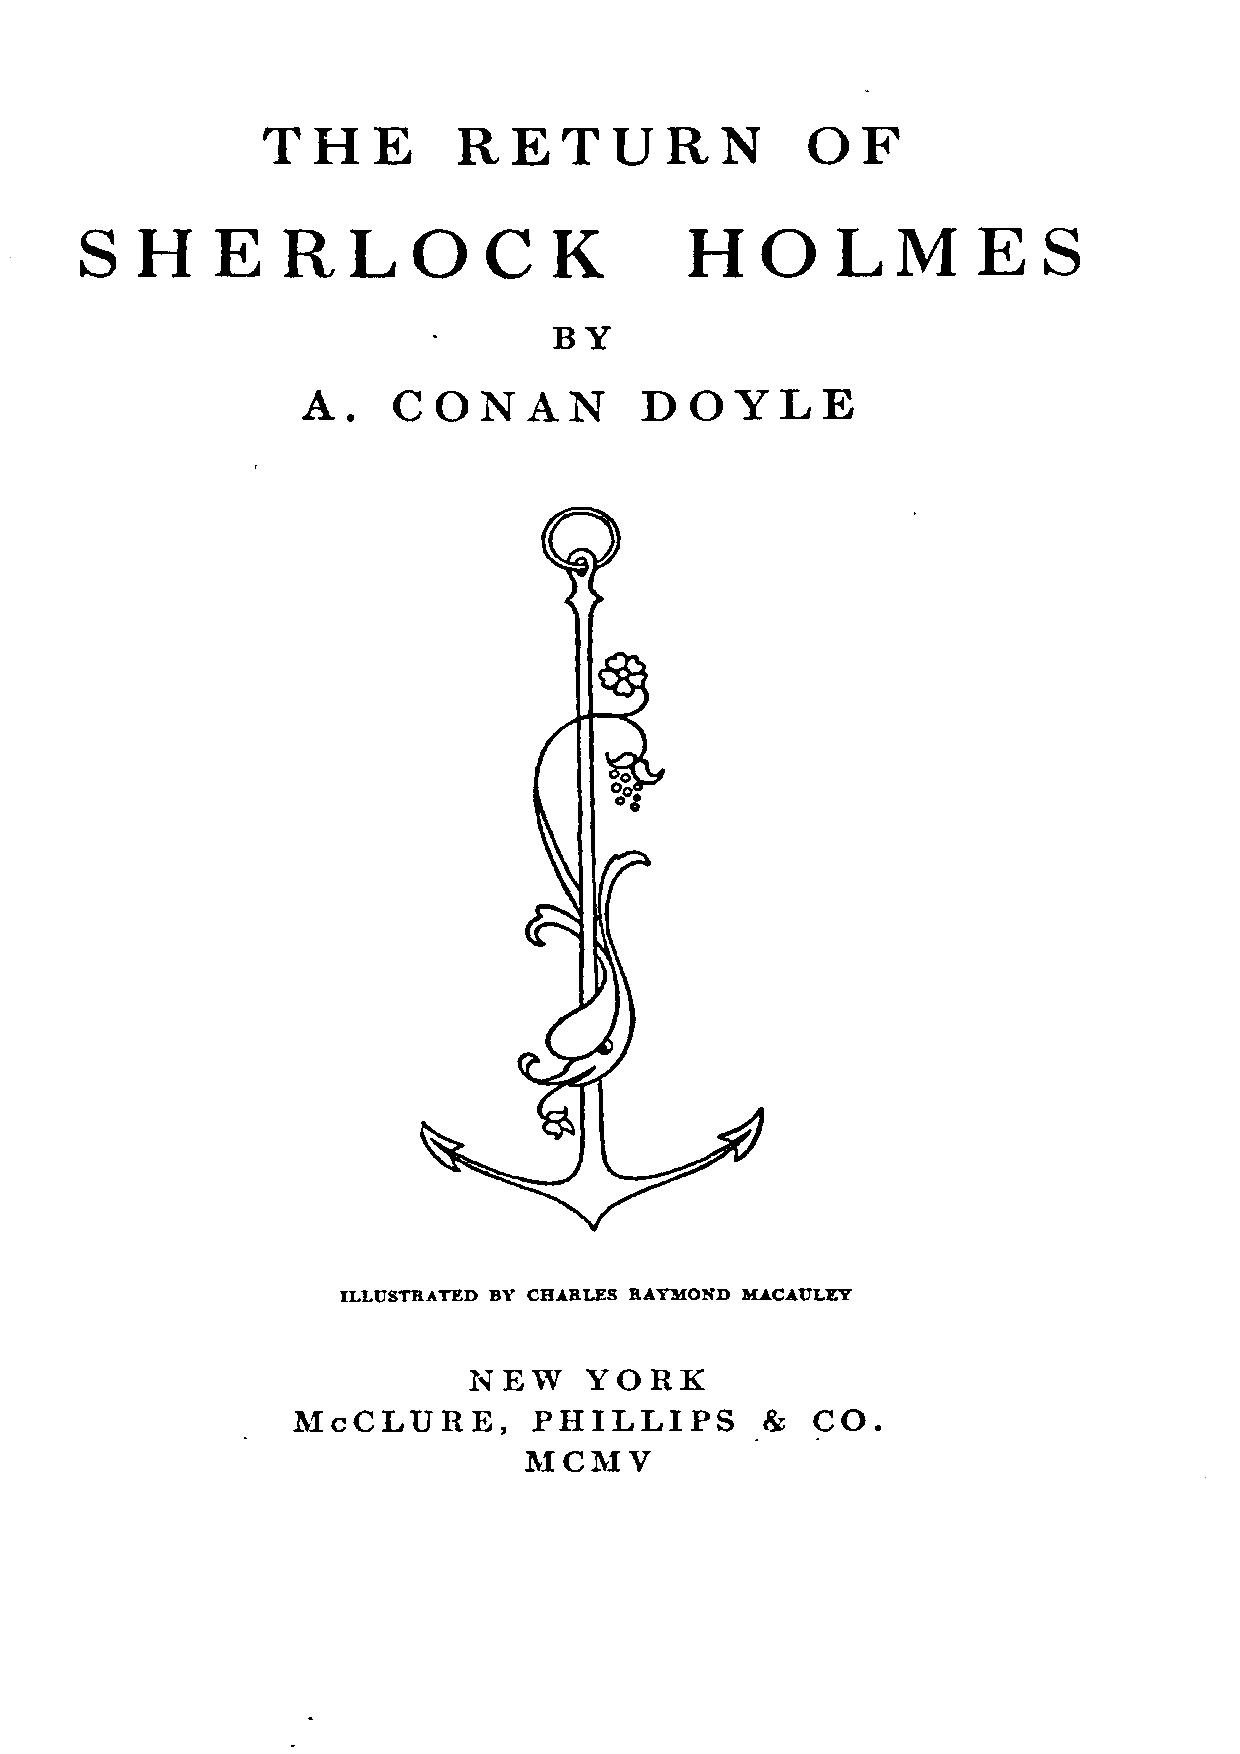author: (297, 323, 856, 421)
title: (78, 123, 1082, 280)
